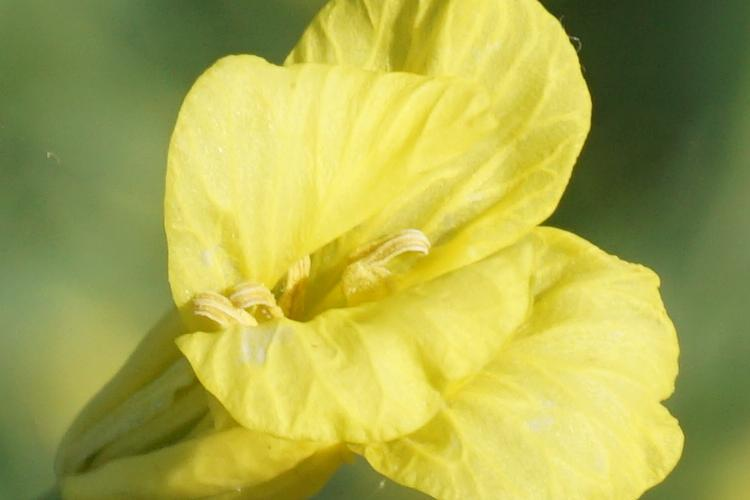yellow: (157, 9, 680, 496)
